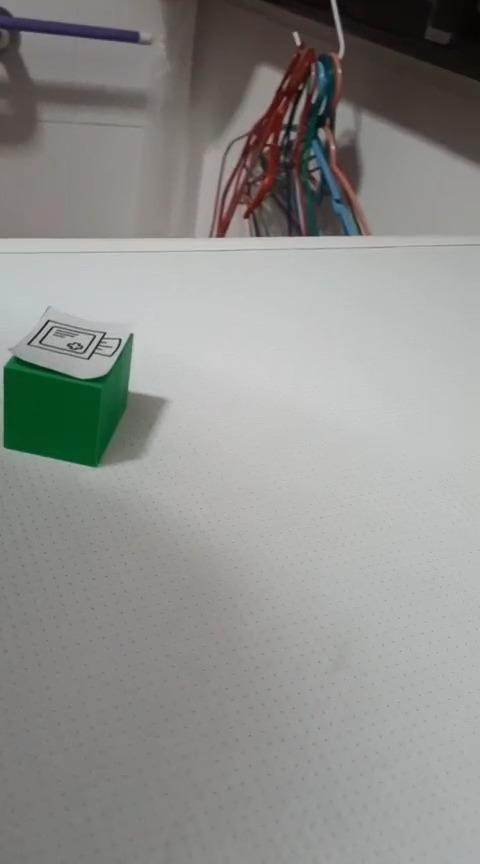Gauze: (2, 304, 134, 468)
